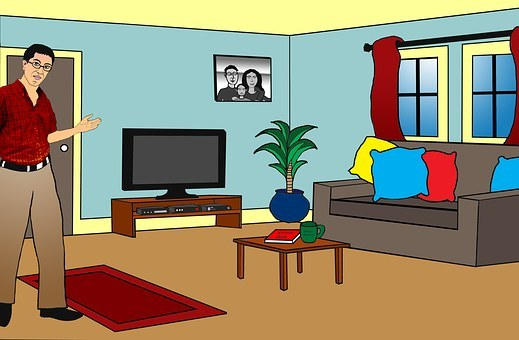diningtable: (229, 221, 352, 292)
person: (1, 39, 101, 325), (216, 63, 244, 100), (239, 67, 270, 100), (232, 81, 250, 102)
pottedplant: (250, 115, 314, 224)
sofa: (305, 121, 516, 269)
tvmonitor: (115, 121, 230, 203)
